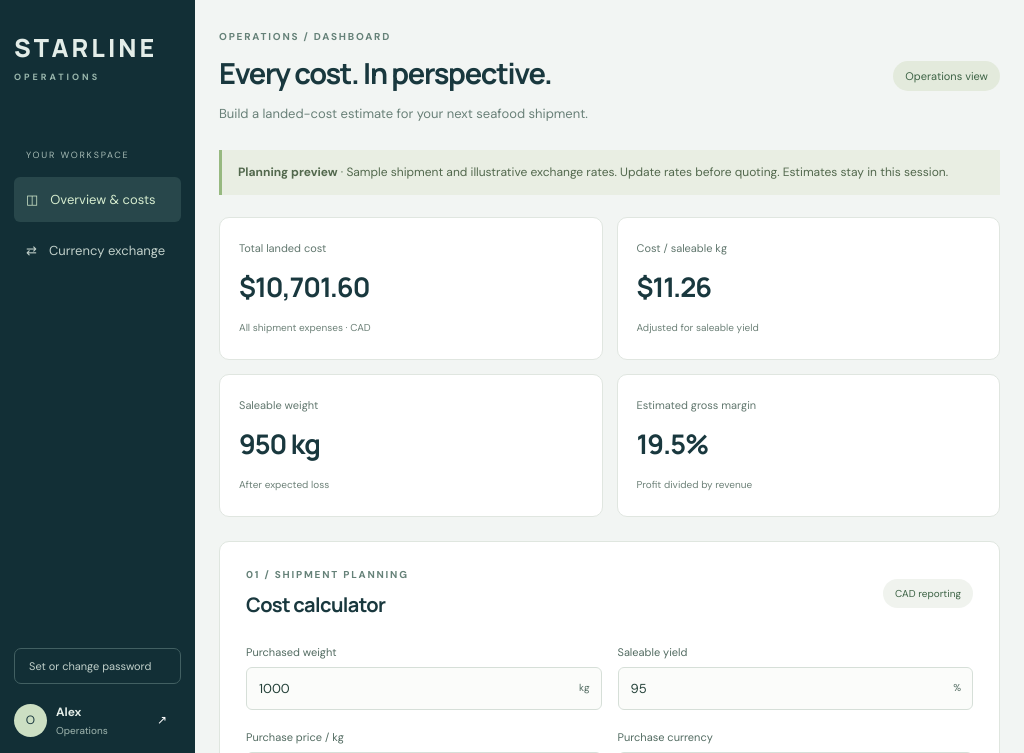
Scenario: a late session refresh cannot reopen the dashboard after logout
Expected: the text "Saleable weight" is shown, [239,398,318,412]
Click the button named "Sign out": {"x": 162, "y": 720} [143,702,181,738]
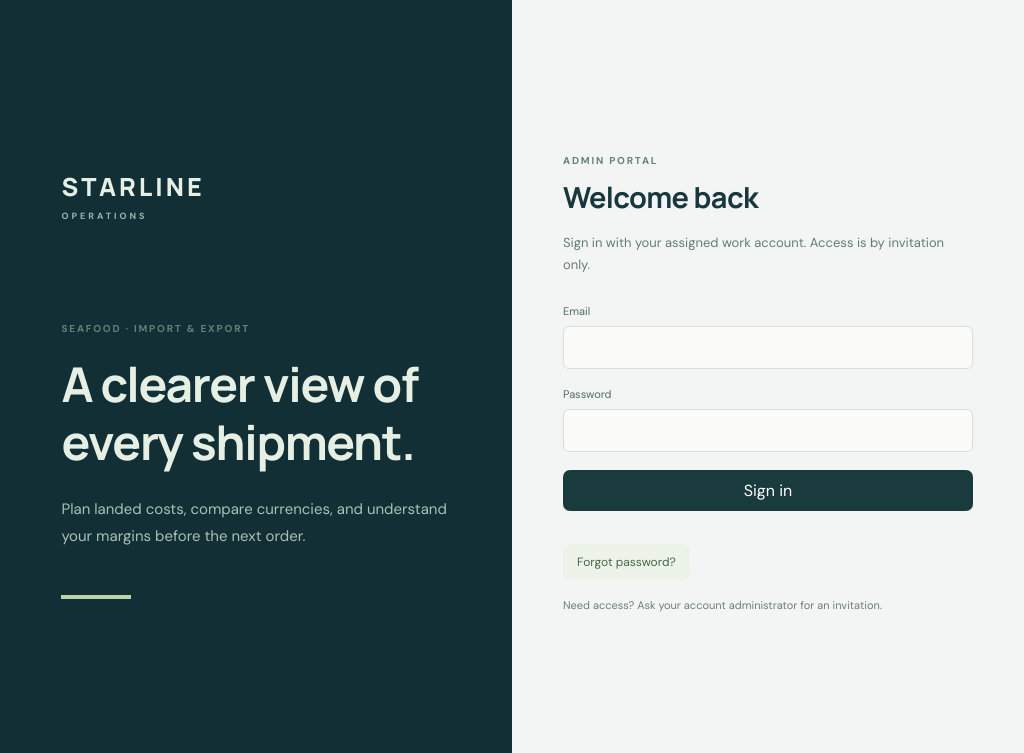
Expected: the button "Sign in" is shown, [563,470,973,511]
Expected: the heading "Every cost. In perspective." is gone
